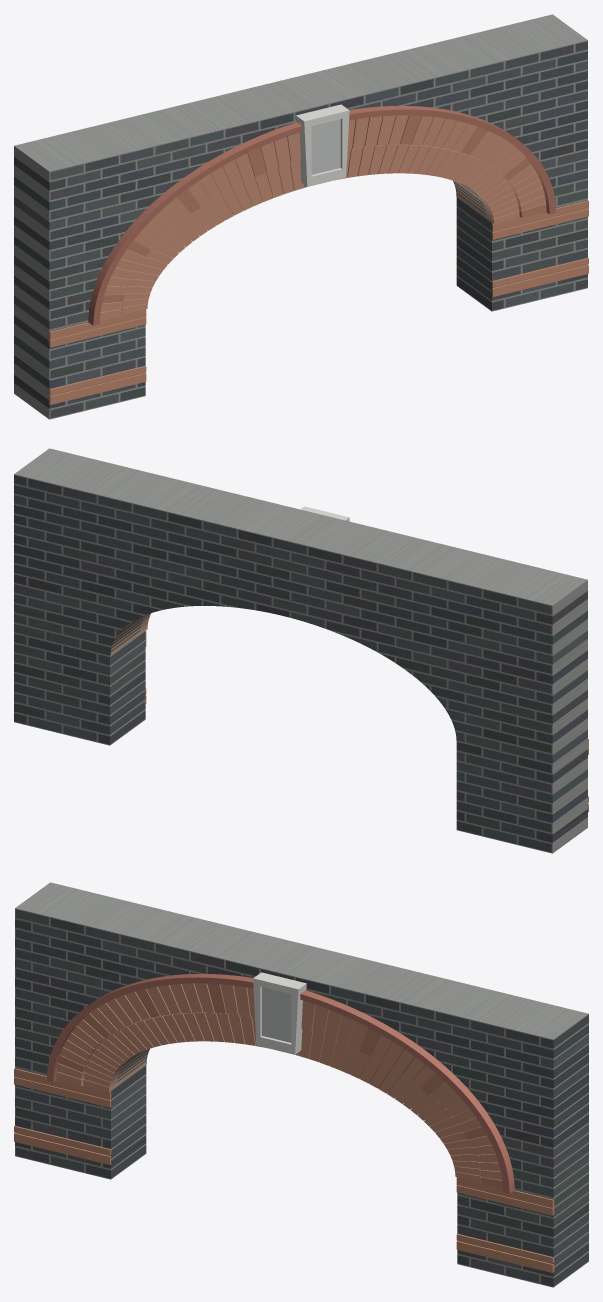
File: fengleli-north-two-segmental-arch-near.glb
3 views of the same model, one above another, from view 1: azimuth 30°, elevation 25°; view 2: azimuth 150°, elevation 25°; view 3: azimuth 330°, elevation 25° (orthographic).
Parts seen in each view (by area): view 1: 丰乐里北贰支弄红砖券与浅色券心石; view 2: 丰乐里北贰支弄红砖券与浅色券心石; view 3: 丰乐里北贰支弄红砖券与浅色券心石.
Part boxes in pixels (<box>): 丰乐里北贰支弄红砖券与浅色券心石: <box>14,14,588,419</box>; 丰乐里北贰支弄红砖券与浅色券心石: <box>14,448,588,853</box>; 丰乐里北贰支弄红砖券与浅色券心石: <box>14,882,588,1287</box>.
Bounding box in the file's own units: 4.82 × 2.12 × 0.678.
Materials: 8 (1 with a texture image).
